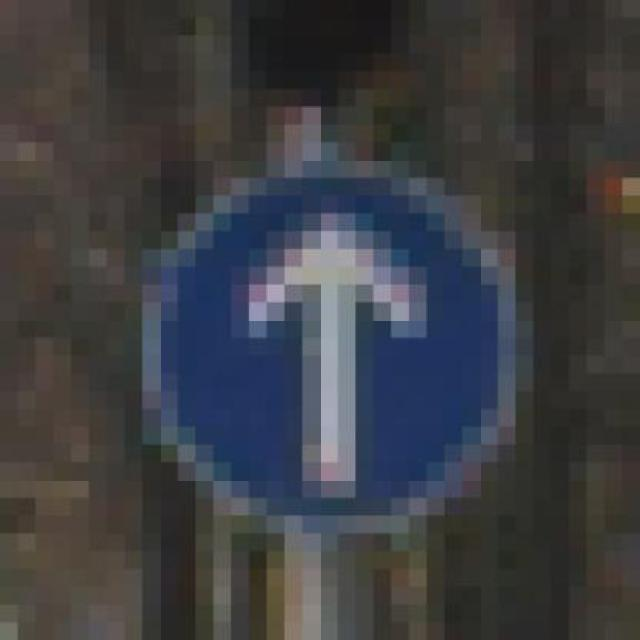Straight Ahead Only: (142, 143, 533, 552)
